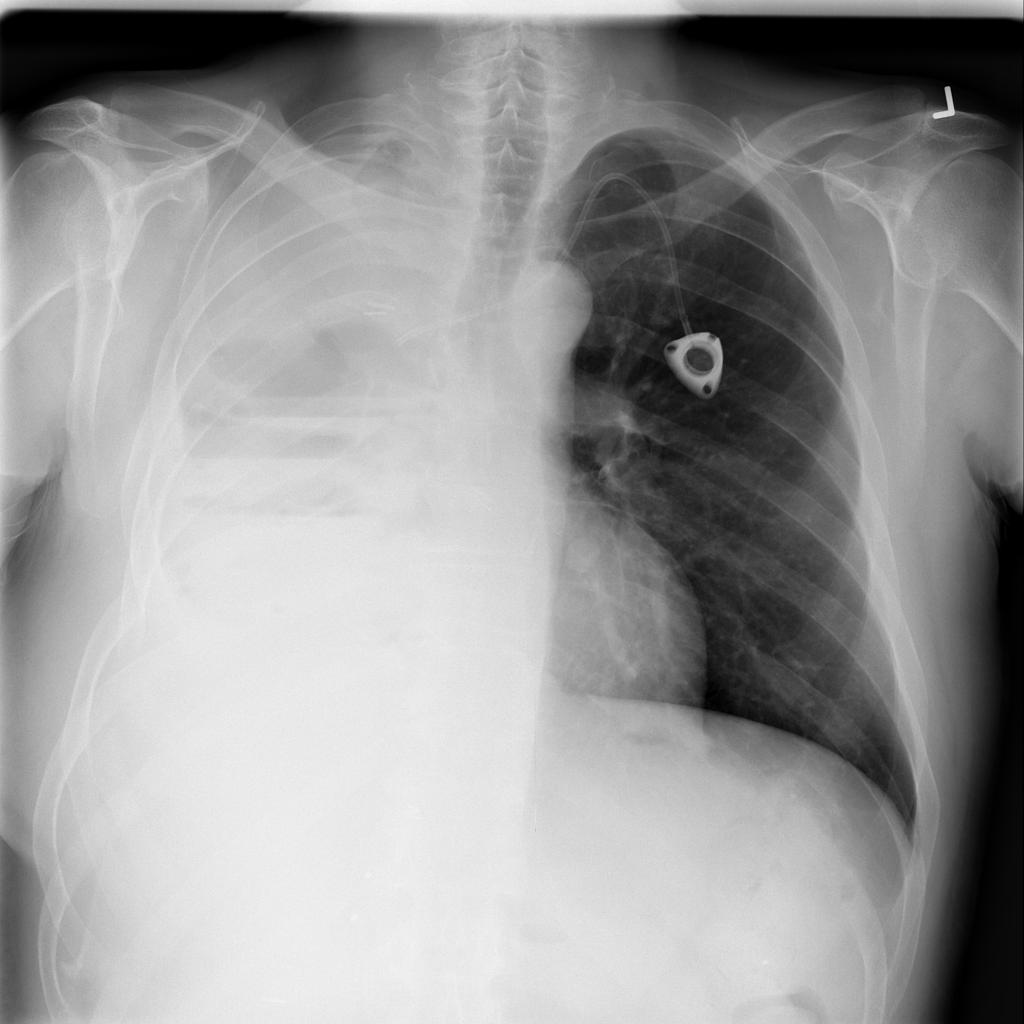nodule: (547, 520, 619, 588)
